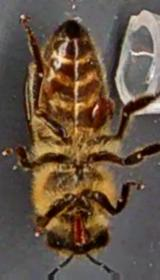varroa_mite: (88, 94, 112, 125)
